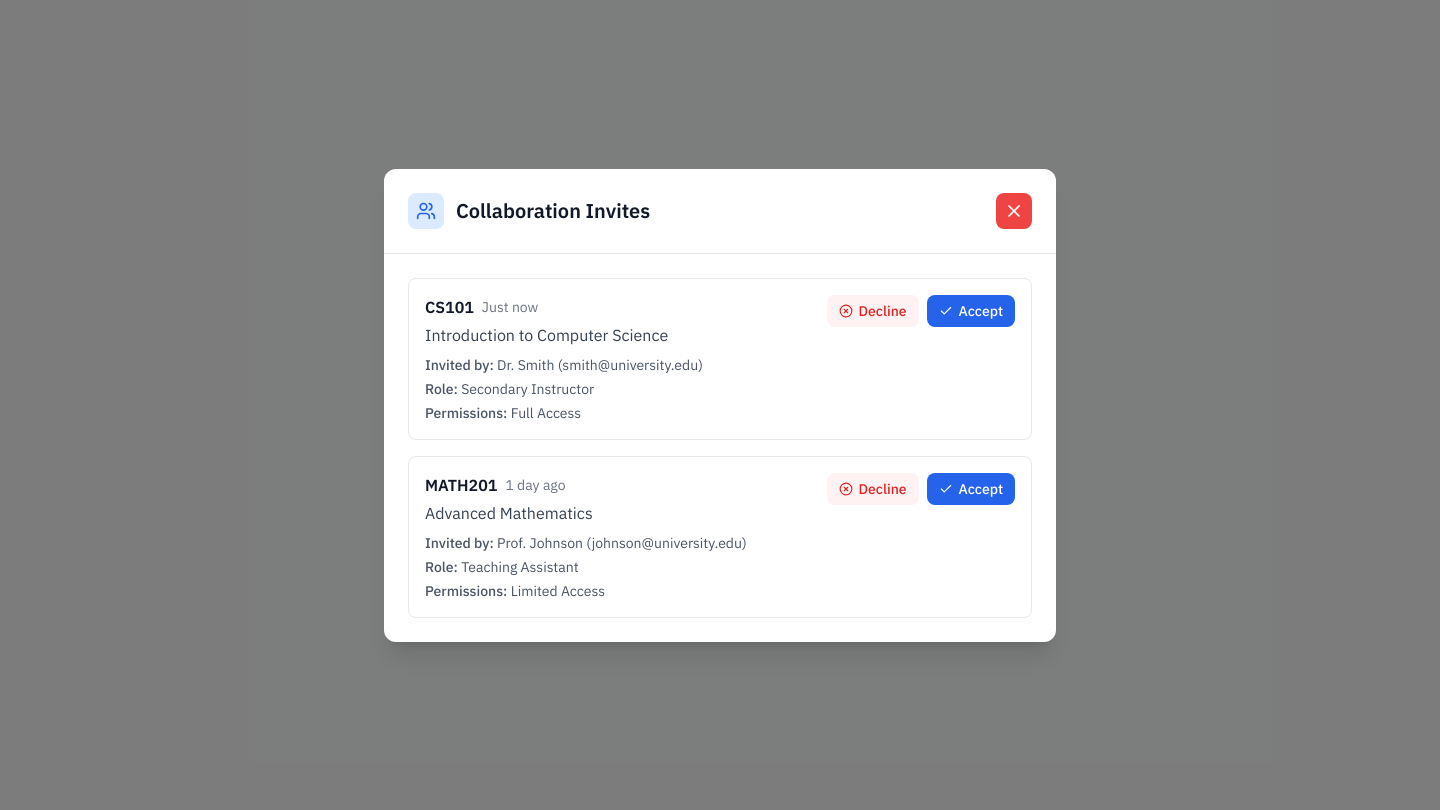
Test: CollaborationInvitesModal › displays error message when accept fails
This screenshot has width=1440, height=810.
Click the button "Accept" in the row of "Just now": [971, 310] box left=927, top=294, right=1015, bottom=326
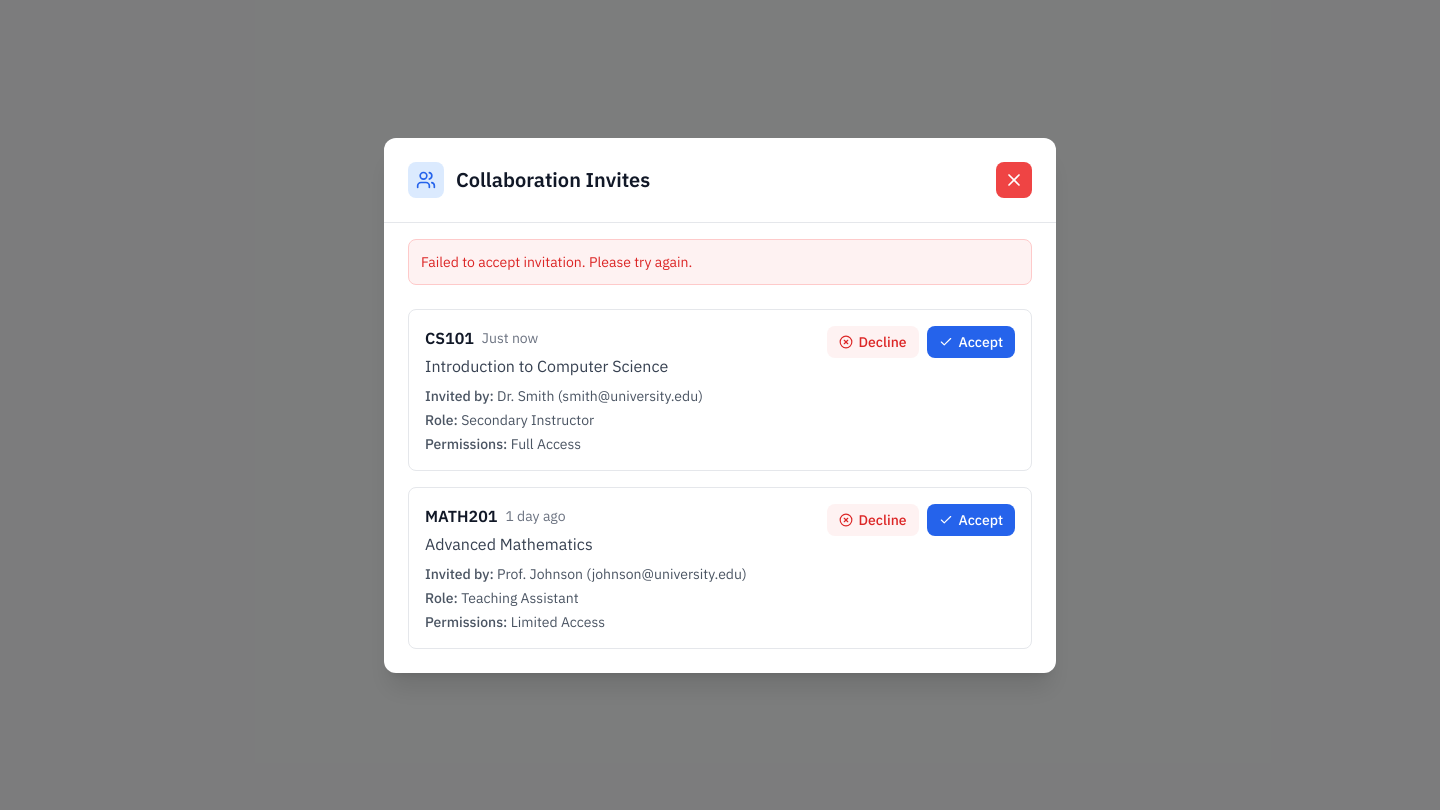
expect the text "Failed to accept invitation. Please try again." is shown: met, box left=421, top=252, right=692, bottom=270
